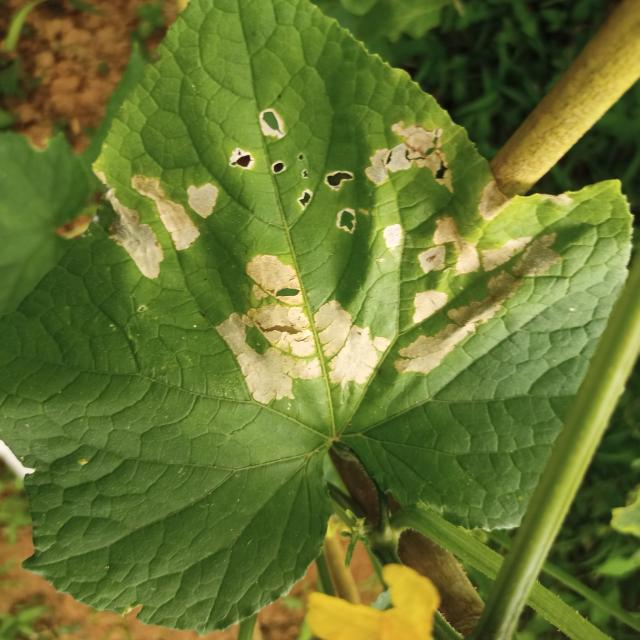disease_cucumber: (96, 110, 560, 407)
